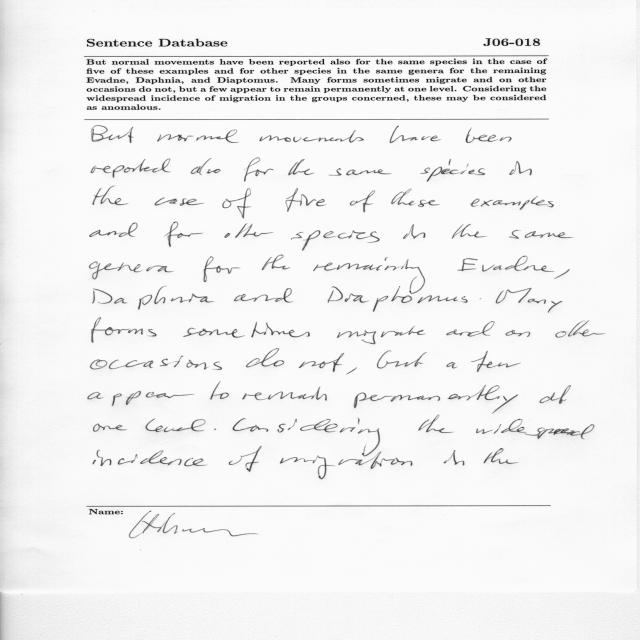word: (233, 418, 380, 457), (354, 385, 518, 414), (313, 257, 425, 294), (280, 452, 412, 480), (328, 286, 458, 312), (476, 419, 594, 439), (183, 322, 310, 338), (90, 355, 222, 370), (291, 230, 379, 251), (93, 450, 207, 466), (92, 286, 166, 310), (496, 288, 563, 313), (91, 318, 157, 343), (457, 255, 554, 272), (88, 391, 194, 406), (337, 326, 425, 344), (89, 262, 174, 280), (91, 159, 171, 178), (420, 159, 485, 182), (259, 130, 364, 143), (242, 387, 327, 401), (470, 196, 554, 210), (157, 129, 239, 143), (471, 351, 521, 372), (164, 222, 203, 247), (204, 257, 241, 283), (286, 188, 326, 212), (555, 320, 605, 338), (234, 288, 293, 303), (391, 189, 440, 207), (377, 351, 426, 369), (222, 189, 251, 219), (390, 126, 441, 143), (229, 446, 262, 472), (299, 353, 344, 372), (446, 321, 495, 337), (146, 419, 206, 432), (91, 125, 134, 143), (224, 223, 274, 238), (246, 349, 284, 368), (244, 158, 274, 182), (90, 222, 138, 237), (93, 186, 128, 205), (418, 415, 454, 433), (466, 129, 512, 143), (539, 385, 571, 404), (509, 230, 573, 239), (350, 191, 375, 213), (484, 448, 518, 464), (452, 224, 486, 239), (329, 168, 392, 176), (191, 158, 220, 175), (155, 197, 204, 206), (288, 159, 315, 175), (171, 293, 214, 303), (262, 255, 290, 270), (403, 224, 425, 239), (210, 382, 229, 399), (509, 161, 532, 175), (444, 450, 465, 465), (93, 423, 127, 432), (506, 330, 531, 337), (554, 269, 570, 279), (346, 367, 357, 375), (447, 362, 458, 369), (462, 296, 468, 303), (214, 429, 216, 430)
